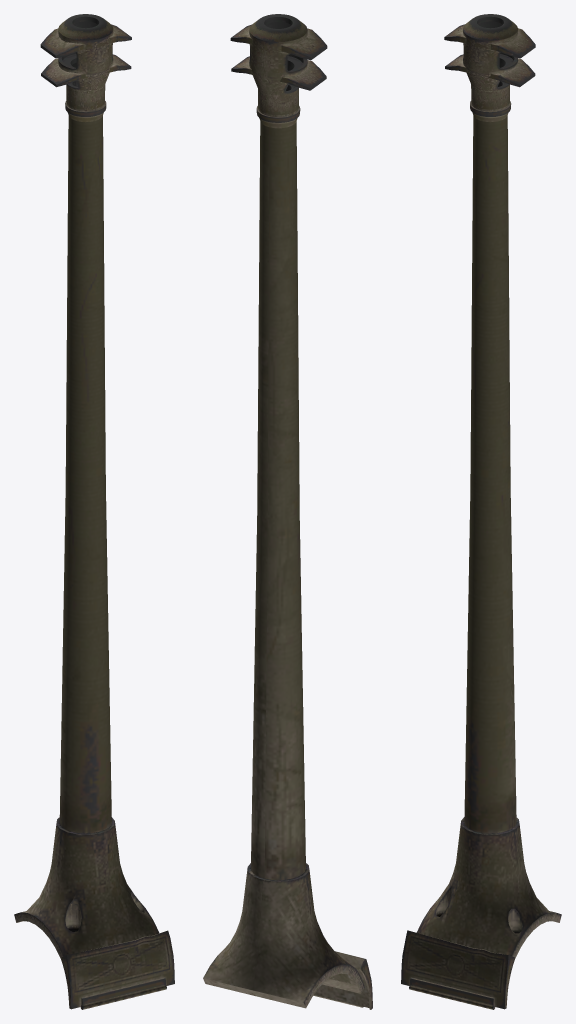
File: Gun_07.glb
3 renders of one model, left to right at view 1: azimuth 30°, elevation 25°; view 2: azimuth 150°, elevation 25°; view 3: azimuth 330°, elevation 25°, orthographic. The views are drawn at different scales.
Visible parts, largest first — view 1: set_0_group_0; view 2: set_0_group_0; view 3: set_0_group_0.
Boxes of the visible parts, x1,y1,x2,y2 form: set_0_group_0: [14, 14, 174, 1009]; set_0_group_0: [203, 14, 372, 1009]; set_0_group_0: [401, 14, 561, 1009].
Size of the model in its own units: 0.592 by 5.18 by 0.6267.
Materials: 1 (1 with a texture image).
